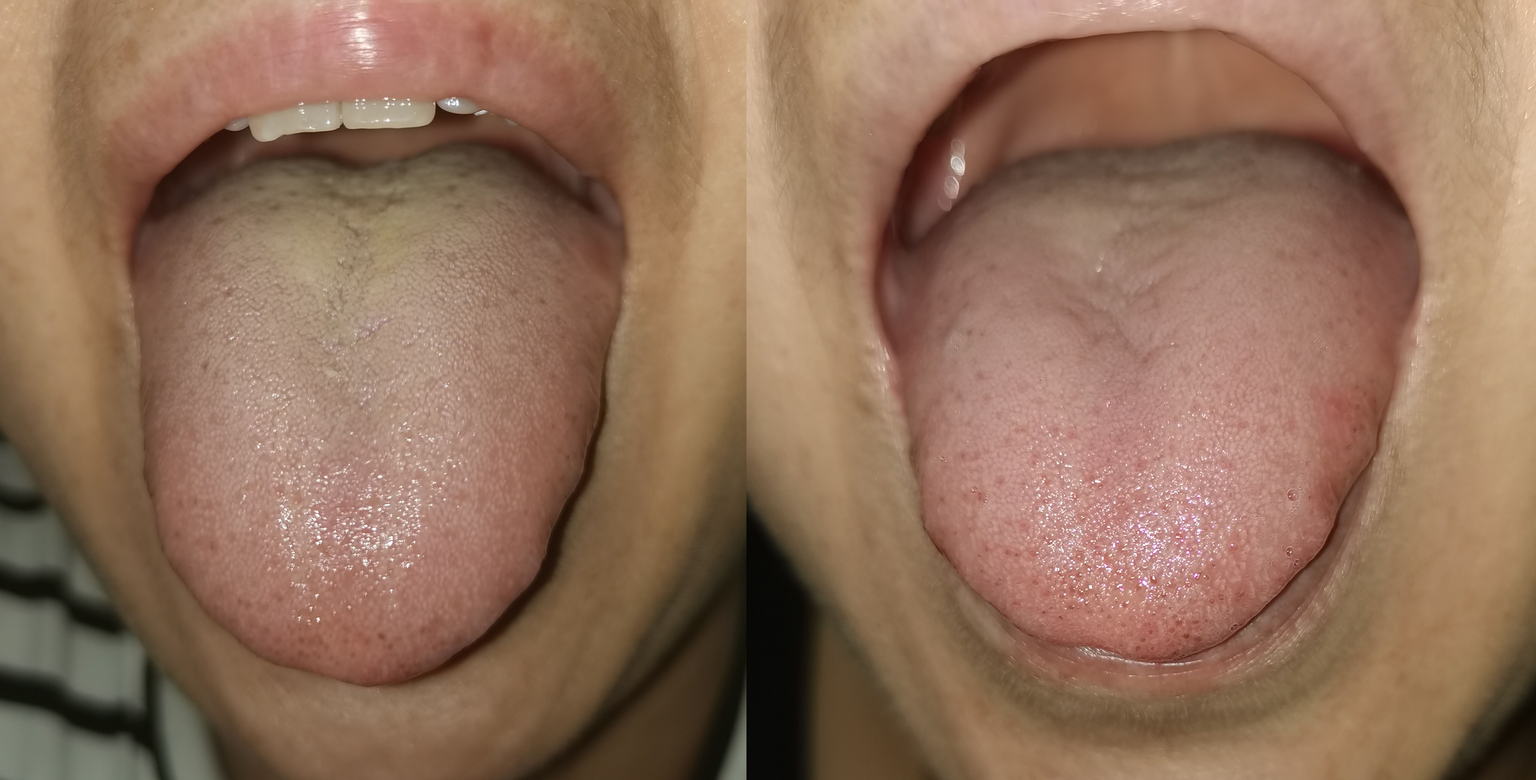baitaishe: (909, 129, 1422, 659)
hongdianshe: (1146, 572, 1159, 587), (374, 630, 387, 643), (1002, 545, 1011, 558)
huangtaishe: (133, 143, 617, 686)
piweiao: (1027, 217, 1237, 382)
